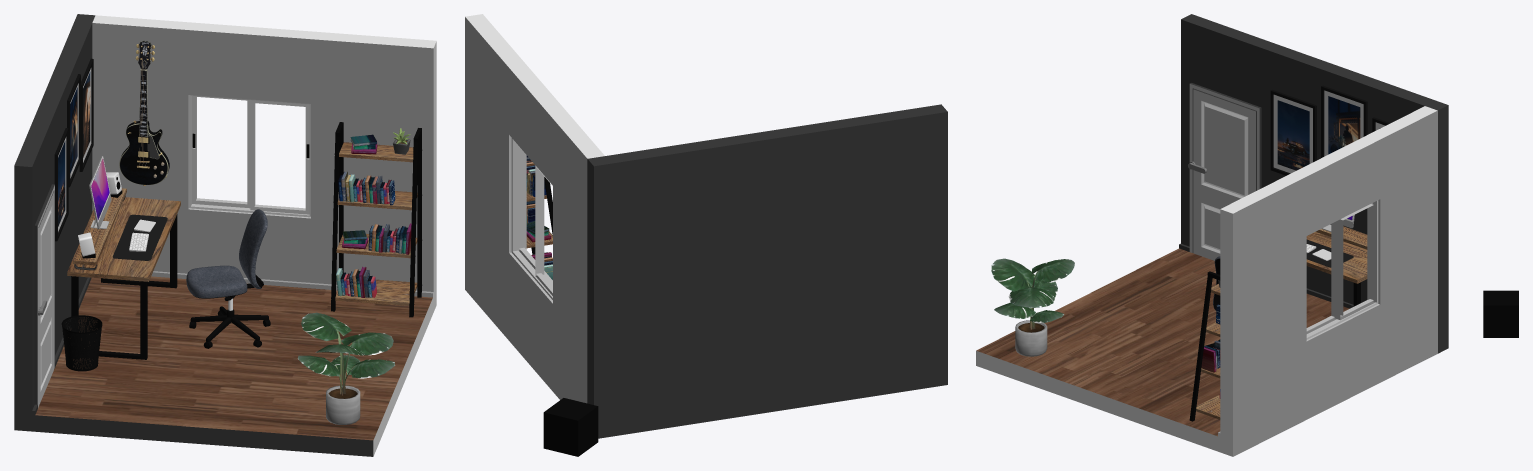
The model's file is Finale3-opt.glb.
3 views of the same model, side by side, from view 1: azimuth 30°, elevation 25°; view 2: azimuth 150°, elevation 25°; view 3: azimuth 270°, elevation 25° (orthographic). The views are drawn at different scales.
Parts seen in each view (by area): view 1: Body, Books and lybrary and plant, Floor obj, Pictures and Guitar, Table Desk, Audio boxes desk reizer keyboard and trackpad, Computer Chair, Computer; view 2: Body, Cube, Books and lybrary and plant; view 3: Body, Pictures and Guitar, Floor obj, Books and lybrary and plant, Cube, Table Desk, Audio boxes desk reizer keyboard and trackpad.
Boxes of the visible parts, left/top/right/bottom form: Body: left=14, top=14, right=436, bottom=456; Books and lybrary and plant: left=331, top=122, right=422, bottom=317; Floor obj: left=61, top=298, right=395, bottom=424; Pictures and Guitar: left=54, top=40, right=169, bottom=241; Table Desk: left=67, top=197, right=180, bottom=359; Audio boxes desk reizer keyboard and trackpad: left=72, top=172, right=167, bottom=270; Computer Chair: left=186, top=209, right=267, bottom=300; Computer: left=89, top=156, right=111, bottom=229; Body: left=465, top=14, right=947, bottom=438; Cube: left=543, top=398, right=598, bottom=456; Books and lybrary and plant: left=526, top=155, right=552, bottom=279; Body: left=976, top=14, right=1448, bottom=456; Pictures and Guitar: left=1270, top=85, right=1390, bottom=175; Floor obj: left=991, top=258, right=1214, bottom=356; Books and lybrary and plant: left=1189, top=271, right=1220, bottom=421; Cube: left=1483, top=290, right=1518, bottom=337; Table Desk: left=1306, top=231, right=1367, bottom=306; Audio boxes desk reizer keyboard and trackpad: left=1306, top=226, right=1367, bottom=267.
Bounding box in the file's own units: 13.58 × 7.71 × 15.6.
Materials: 36 (22 with a texture image).
